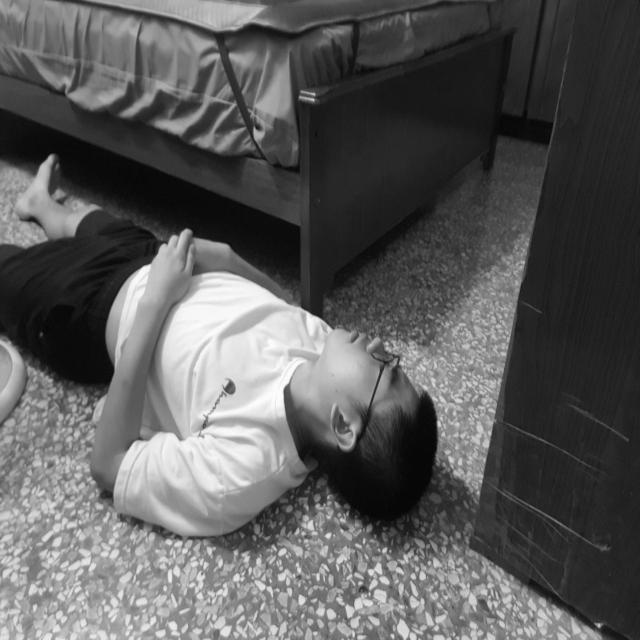lie: (0, 161, 456, 511)
